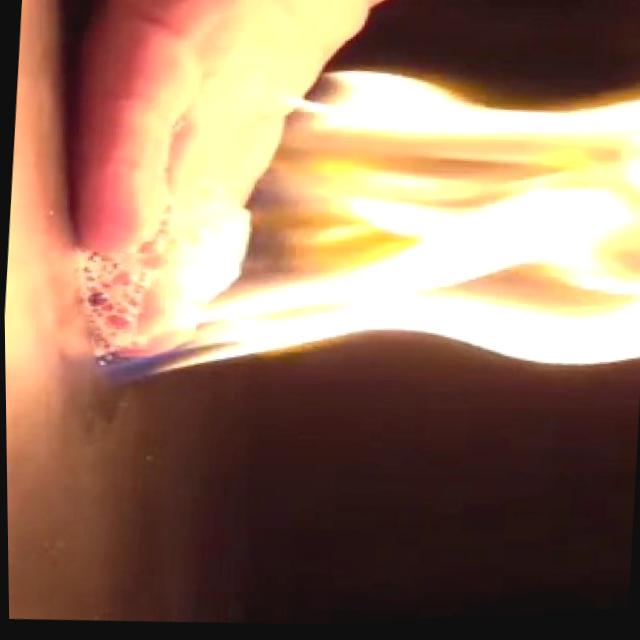Fire: (88, 33, 640, 426)
